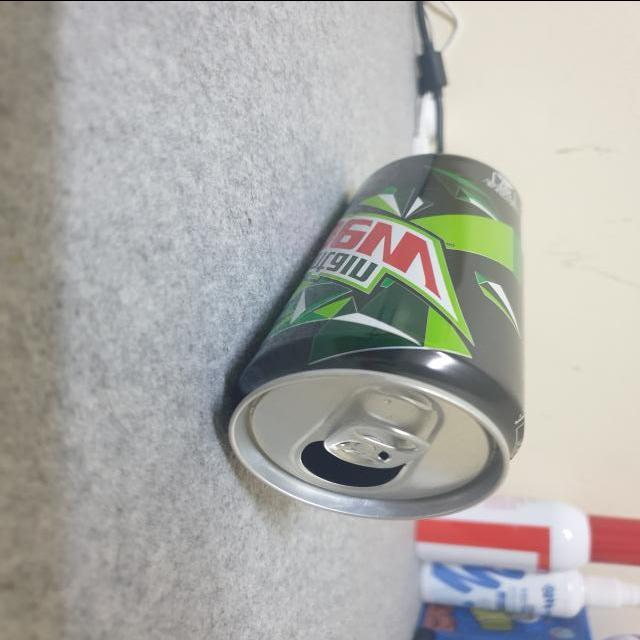can: (225, 150, 528, 520)
